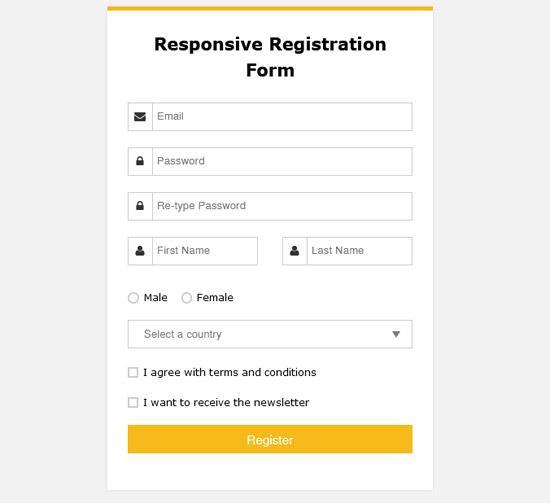button: (130, 425, 412, 455)
checkbox: (128, 368, 140, 379), (129, 398, 140, 409)
dropdown: (130, 321, 413, 349)
icon: (290, 244, 305, 260), (134, 153, 148, 170), (135, 110, 150, 125), (133, 244, 148, 258), (135, 200, 149, 214)
input: (153, 148, 414, 177), (153, 193, 414, 221), (154, 104, 414, 132), (154, 238, 259, 266), (308, 238, 413, 266)
label: (154, 32, 389, 84), (144, 367, 321, 379), (143, 398, 314, 409), (196, 292, 238, 306), (145, 291, 170, 306)
radio: (127, 292, 141, 305), (182, 292, 194, 305)
